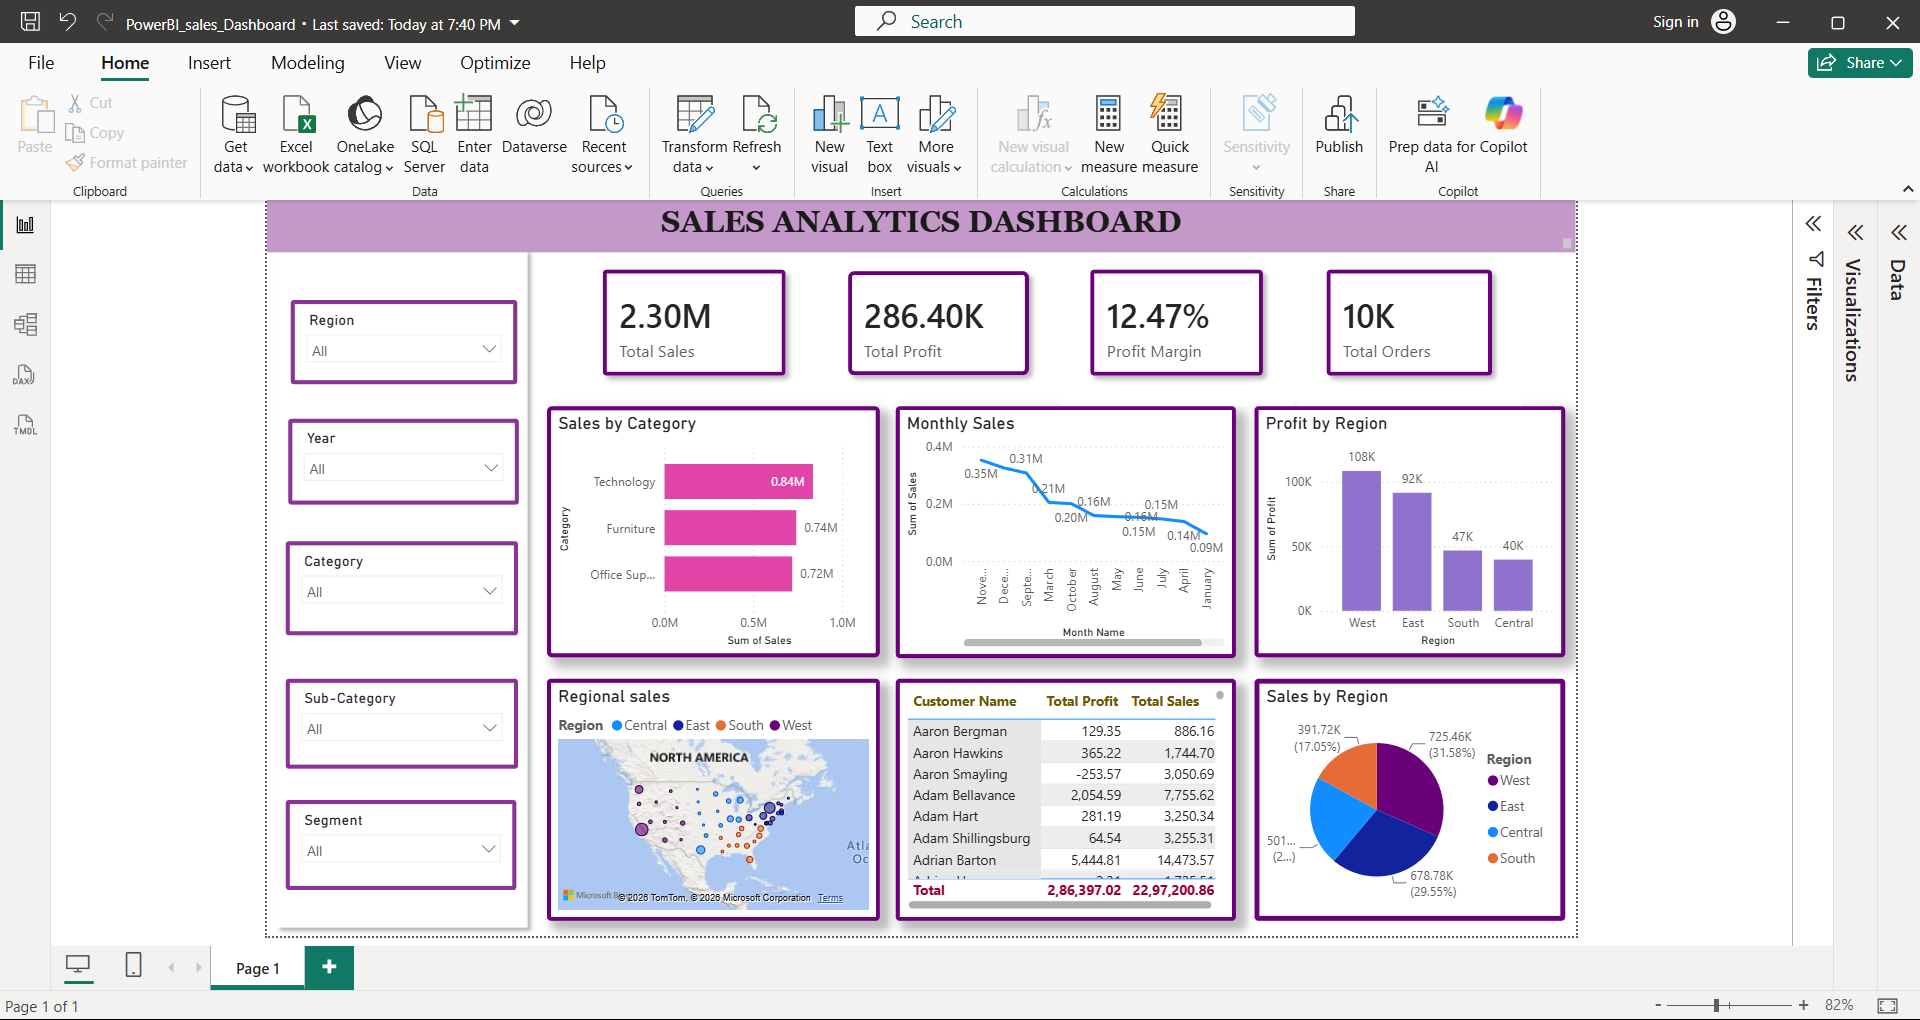

The dashboard page shown, as its layout file describes it:
{"tool":"powerbi","page":{"name":"Page 1","canvas":[1280,720],"ordinal":0},"visuals":[{"type":"shape","box":[0,39.2,263.6,681.4],"z":0},{"type":"cardVisual","title":"Total Sales","fields":{"Data":["Sample-Superstore.Total Sales"]},"box":[300.1,39.2,237.9,162.2],"z":1000},{"type":"cardVisual","title":"Total Profit","fields":{"Data":["Sample-Superstore.Total Profit"]},"box":[538.1,39.2,237.9,162.2],"z":2000},{"type":"clusteredBarChart","title":"Sales by Category","fields":{"Category":["Sample-Superstore.Category"],"Y":["Sum(Sample-Superstore.Sales)"]},"box":[274.3,201.4,325.7,245.7],"z":3000},{"type":"lineChart","title":" Monthly Sales","fields":{"Category":["Sample-Superstore.Month Name"],"Y":["Sum(Sample-Superstore.Sales)"]},"box":[615.1,201.4,332.6,246.1],"z":4000},{"type":"clusteredColumnChart","title":"Profit by Region","fields":{"Category":["Sample-Superstore.Region"],"Y":["Sum(Sample-Superstore.Profit)"]},"box":[965.7,201.4,304.3,245.7],"z":5000},{"type":"map","title":"Regional sales","fields":{"Series":["Sample-Superstore.Region"],"Size":["Sum(Sample-Superstore.Sales)"],"Category":["Sample-Superstore.State"]},"box":[274.3,468.6,325.7,237.1],"z":6000},{"type":"cardVisual","fields":{"Data":["Sample-Superstore.Profit Margin"]},"box":[776,39.2,227.1,162.2],"z":7000},{"type":"cardVisual","fields":{"Data":["Sample-Superstore.Total Orders"]},"box":[1007.2,39.2,220.4,162.2],"z":8000},{"type":"pieChart","title":"Sales by Region","fields":{"Y":["Sum(Sample-Superstore.Sales)"],"Category":["Sample-Superstore.Region"]},"box":[965.7,468.6,304.3,237.1],"z":9000},{"type":"tableEx","fields":{"Values":["Sample-Superstore.Customer Name","Sample-Superstore.Total Profit","Sample-Superstore.Total Sales"]},"box":[615.1,467.8,332.6,236.6],"z":10000},{"type":"textbox","title":"SALES ANALYTICS DASHBOARD","box":[0,0,1280,51.4],"z":11000},{"type":"slicer","fields":{"Values":["Sample-Superstore.Region"]},"box":[23,97.3,221.7,82.5],"z":12000},{"type":"slicer","fields":{"Values":["Sample-Superstore.Year"]},"box":[20.3,213.6,225.8,83.8],"z":13000},{"type":"slicer","fields":{"Values":["Sample-Superstore.Category"]},"box":[18.9,333.9,227.1,91.9],"z":14000},{"type":"slicer","fields":{"Values":["Sample-Superstore.Sub-Category"]},"box":[18.9,467.8,227.1,87.9],"z":15000},{"type":"slicer","fields":{"Values":["Sample-Superstore.Segment"]},"box":[18.9,586.7,225.8,87.9],"z":16000}]}

Visuals, with their boxes on the page's 1280x720 design canvas (x1, y1, x2, y2). These are canvas units, not pixel positions in the 1920x1020 screenshot, which may show the page scaled, cropped or inside an application window:
shape: x1=0, y1=39, x2=264, y2=721
"Total Sales" cardVisual: x1=300, y1=39, x2=538, y2=201
"Total Profit" cardVisual: x1=538, y1=39, x2=776, y2=201
"Sales by Category" clusteredBarChart: x1=274, y1=201, x2=600, y2=447
" Monthly Sales" lineChart: x1=615, y1=201, x2=948, y2=448
"Profit by Region" clusteredColumnChart: x1=966, y1=201, x2=1270, y2=447
"Regional sales" map: x1=274, y1=469, x2=600, y2=706
cardVisual - Sample-Superstore.Profit Margin: x1=776, y1=39, x2=1003, y2=201
cardVisual - Sample-Superstore.Total Orders: x1=1007, y1=39, x2=1228, y2=201
"Sales by Region" pieChart: x1=966, y1=469, x2=1270, y2=706
tableEx - Sample-Superstore.Customer Name x Sample-Superstore.Total Profit: x1=615, y1=468, x2=948, y2=704
"SALES ANALYTICS DASHBOARD" textbox: x1=0, y1=0, x2=1280, y2=51
slicer - Sample-Superstore.Region: x1=23, y1=97, x2=245, y2=180
slicer - Sample-Superstore.Year: x1=20, y1=214, x2=246, y2=297
slicer - Sample-Superstore.Category: x1=19, y1=334, x2=246, y2=426
slicer - Sample-Superstore.Sub-Category: x1=19, y1=468, x2=246, y2=556
slicer - Sample-Superstore.Segment: x1=19, y1=587, x2=245, y2=675
